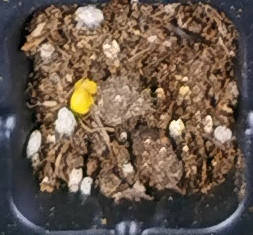chilli seed: (70, 88, 93, 114), (73, 75, 97, 91)
